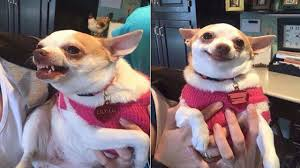chihuahua: (31, 27, 149, 164), (178, 22, 280, 166)
